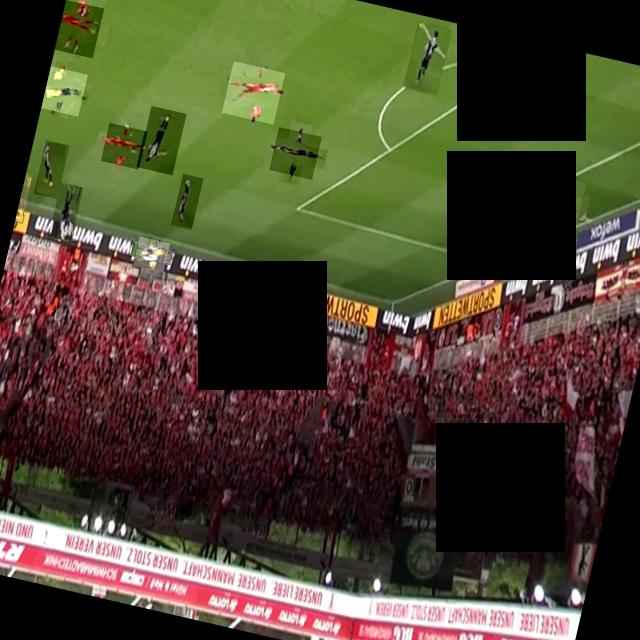goalkeeper: (524, 171, 586, 231)
referee: (41, 66, 88, 116), (132, 236, 170, 272)
soccer-player: (221, 60, 285, 124), (402, 21, 452, 96), (137, 106, 186, 174), (268, 126, 322, 180), (54, 0, 104, 58), (100, 122, 147, 170), (48, 182, 83, 242), (33, 140, 69, 198), (170, 173, 202, 230), (15, 173, 32, 223)
